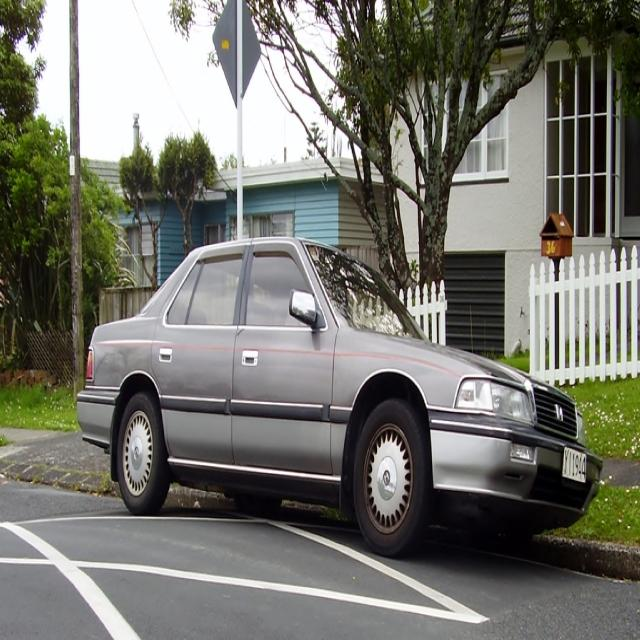car: (77, 234, 601, 554)
